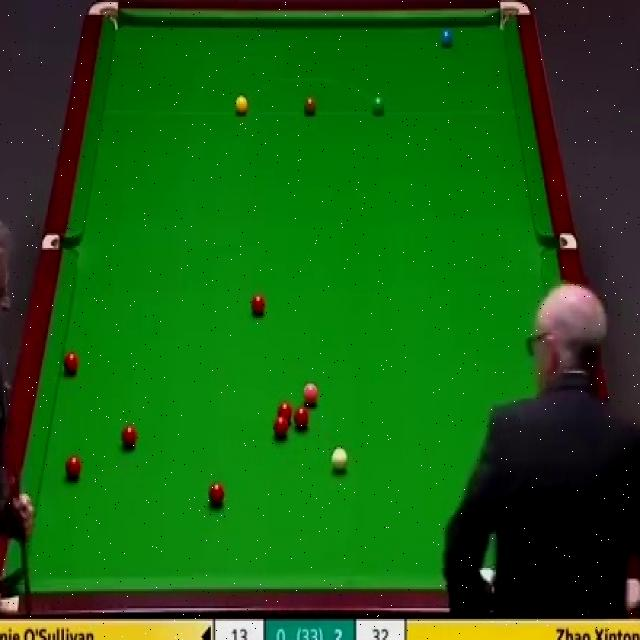blue-ball: (441, 28, 452, 51)
brown-ball: (303, 98, 317, 115)
green-ball: (371, 94, 386, 118)
pink-ball: (301, 380, 319, 403)
red-ball: (271, 414, 291, 439), (207, 480, 226, 506), (65, 456, 83, 482), (275, 401, 293, 426), (121, 424, 138, 449), (293, 408, 311, 430), (63, 351, 79, 374), (249, 294, 266, 315)
white-ball: (330, 446, 349, 472)
yellow-ball: (234, 95, 248, 116)
